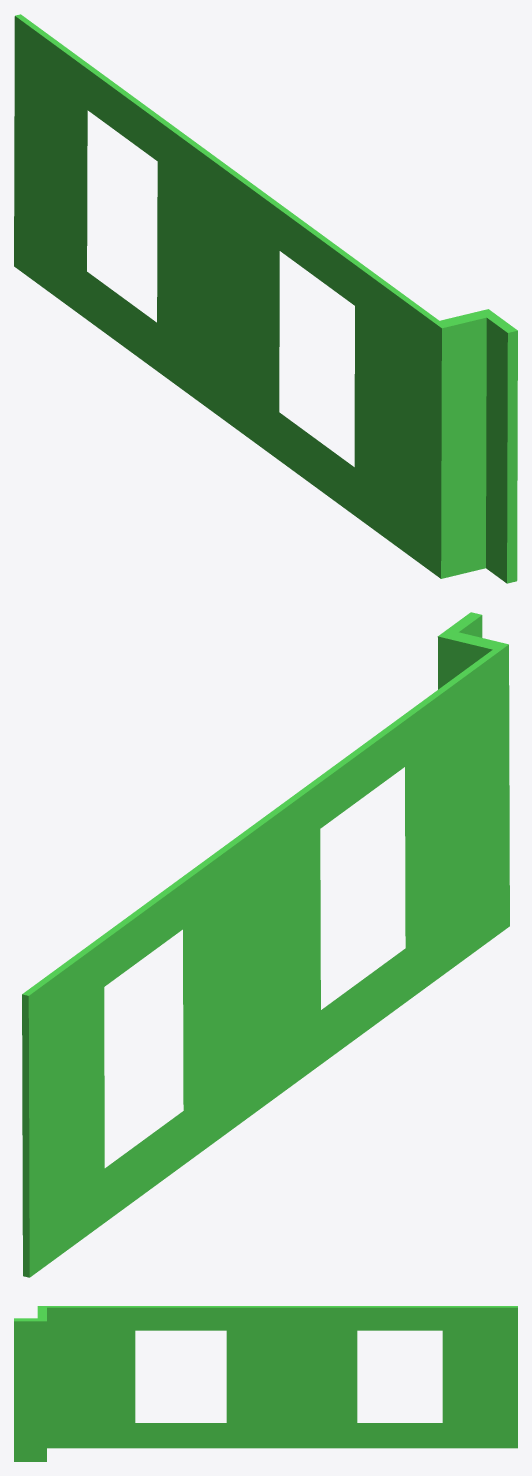
The model's file is Tembok.fbx.
The picture shows the model from 3 angles, top to bottom: view 1: azimuth 30°, elevation 25°; view 2: azimuth 150°, elevation 25°; view 3: azimuth 270°, elevation 25°; orthographic projection. The views are drawn at different scales.
Parts seen in each view (by area): view 1: Cube.006; view 2: Cube.006; view 3: Cube.006.
Part boxes in pixels (<box>): Cube.006: <box>14,14,517,583</box>; Cube.006: <box>22,612,509,1277</box>; Cube.006: <box>14,1306,517,1461</box>.
Size of the model in its own units: 186 by 801 by 2595.
